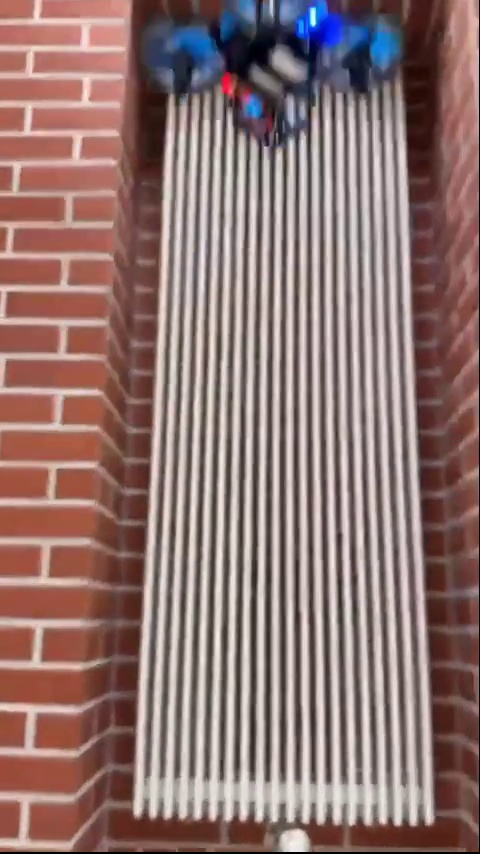drone: (144, 0, 403, 136)
